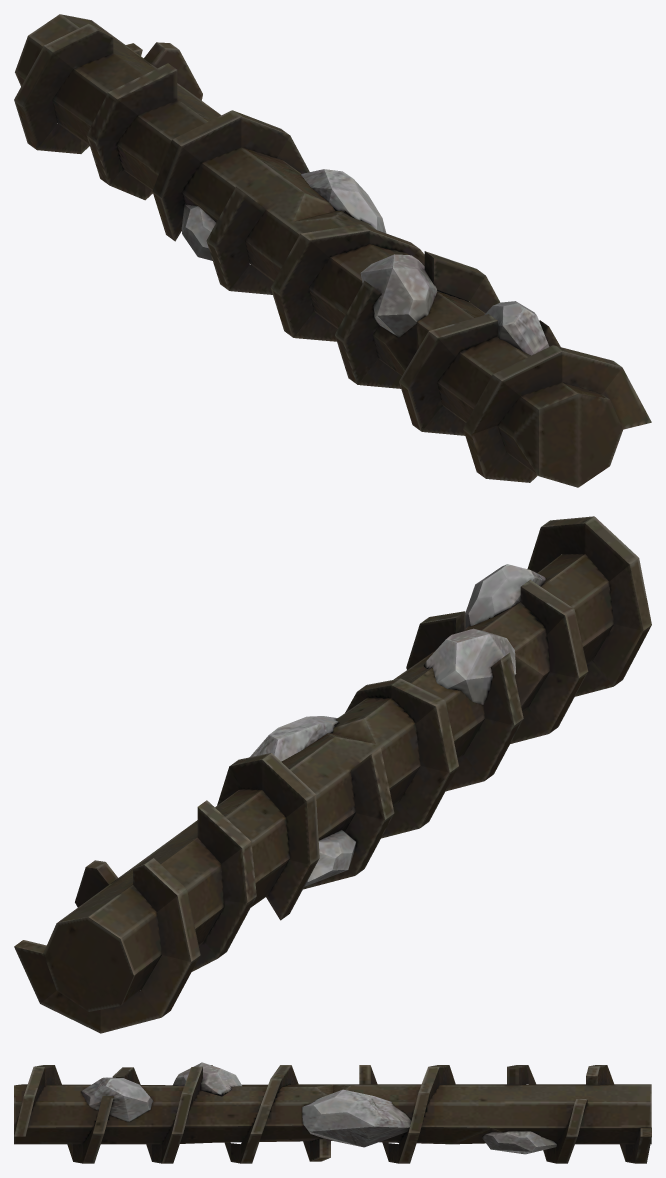
Rendered from SlagThreadedRod.glb.
3 renders of one model, top to bottom at view 1: azimuth 30°, elevation 25°; view 2: azimuth 150°, elevation 25°; view 3: azimuth 270°, elevation 25°, orthographic. The views are drawn at different scales.
Parts seen in each view (by area): view 1: SlagThreadedRod; view 2: SlagThreadedRod; view 3: SlagThreadedRod.
Part boxes in pixels (<box>): SlagThreadedRod: <box>14,14,651,487</box>; SlagThreadedRod: <box>14,516,651,1033</box>; SlagThreadedRod: <box>14,1062,651,1163</box>.
Bounding box in the file's own units: 0.133 × 0.133 × 0.8084.
Materials: 1 (1 with a texture image).
